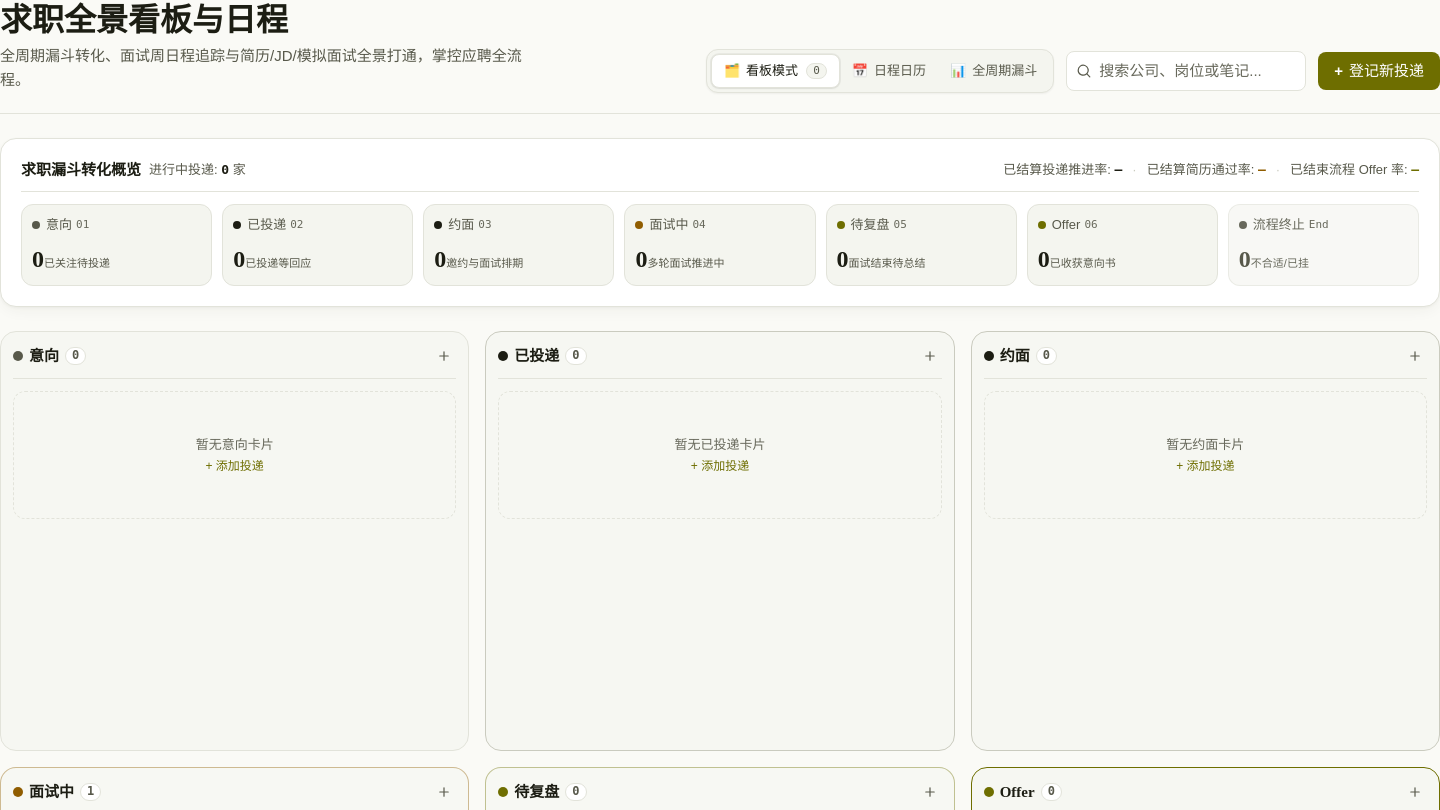
投递日历分页和快捷日期 › 防抖期间切换日历不拿新关键词拼旧游标
Type "new" into the field with placeholder "搜索公司、岗位或笔记...".
click(1186, 71); type("new")  # box [1066,51,1306,91]
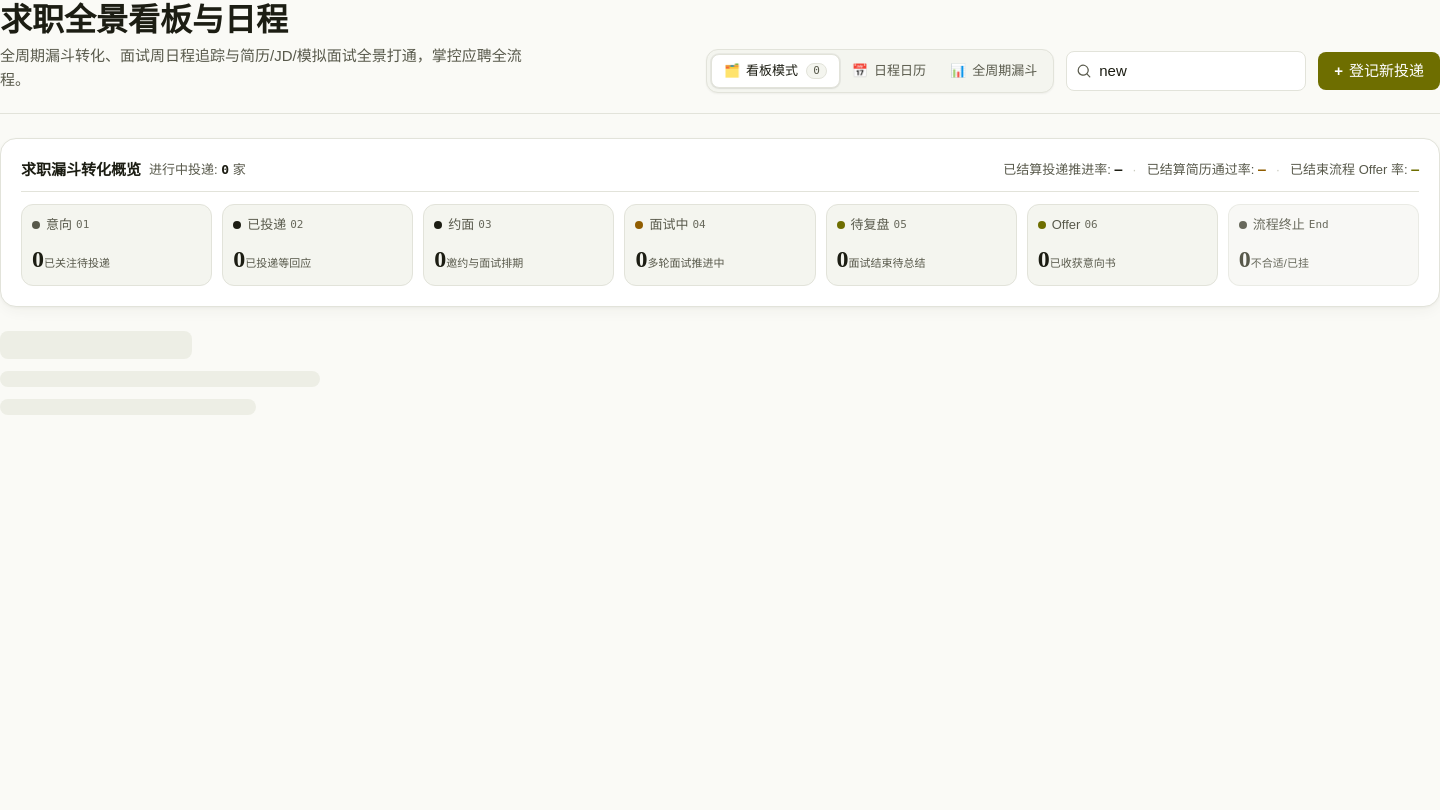
Click the tab "📅 日程日历".
click(889, 71)  # box [840,55,938,87]
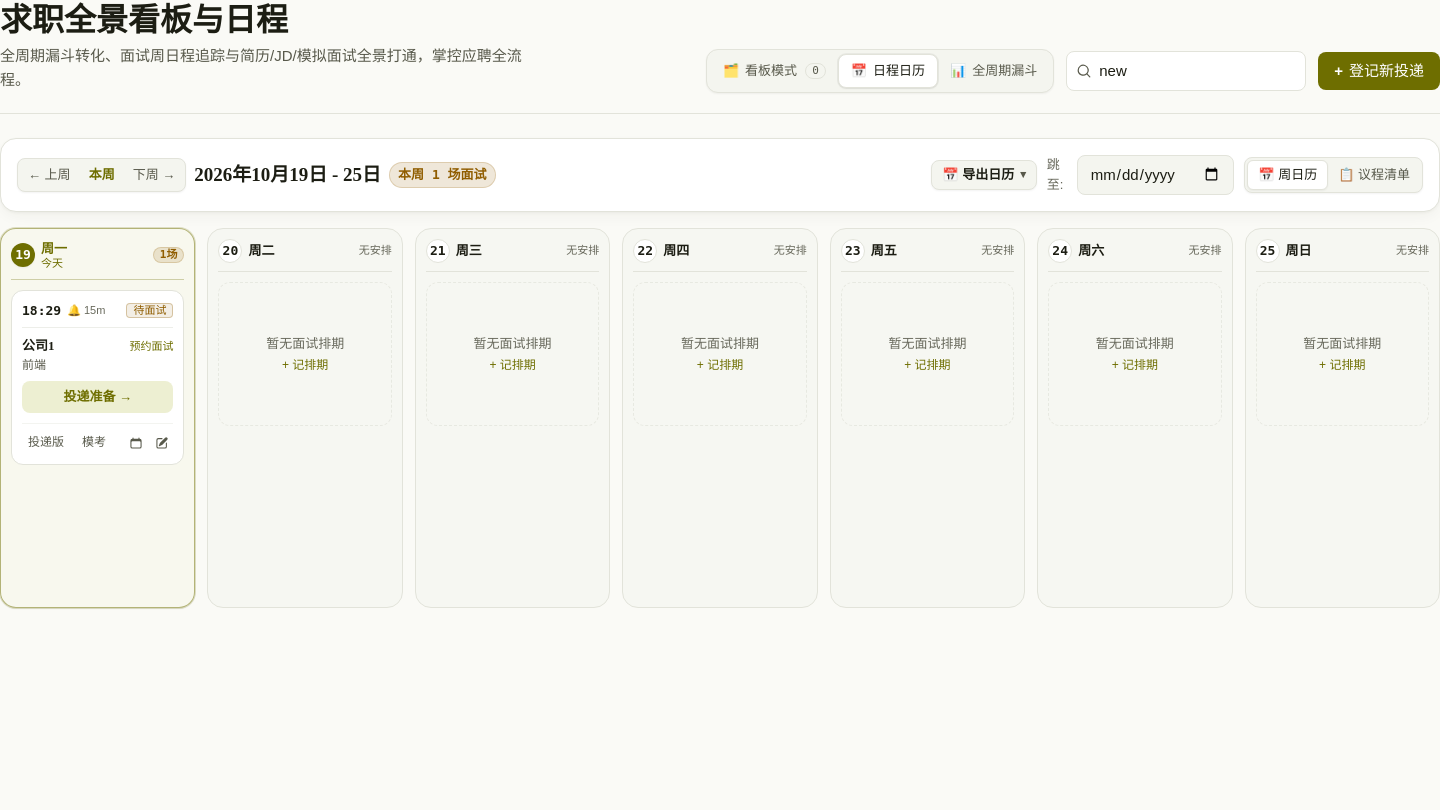
Now the heading "公司1" is shown, box [22,336,54,356]
